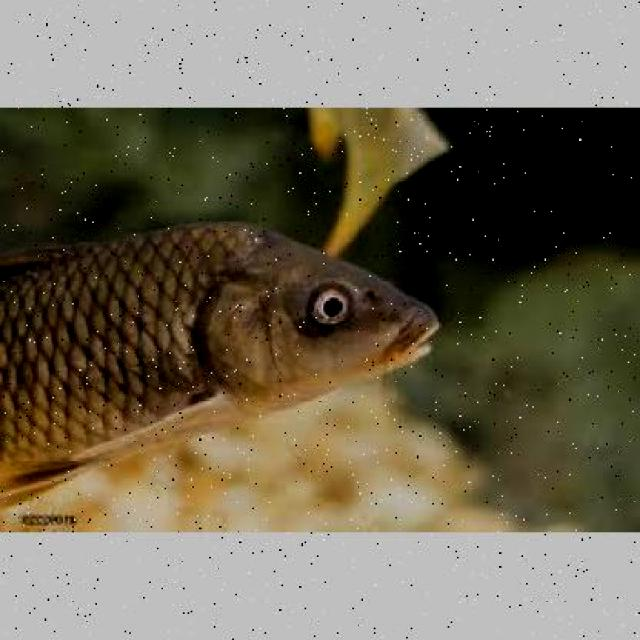ikan-mas: (1, 209, 442, 489)
